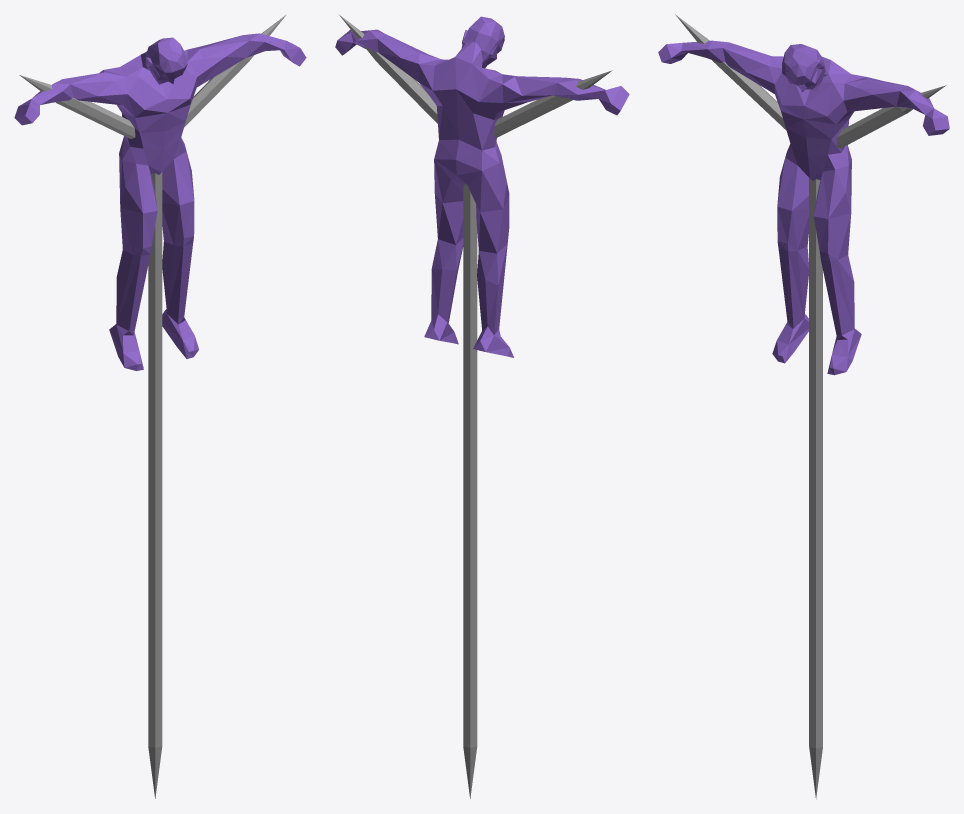
File: ORC_DECO_V1.OBJ
3 renders of one model, left to right at view 1: azimuth 30°, elevation 25°; view 2: azimuth 150°, elevation 25°; view 3: azimuth 330°, elevation 25°, orthographic.
Visible parts, largest first — view 1: ORC_DECO_V1; view 2: ORC_DECO_V1; view 3: ORC_DECO_V1.
Boxes of the visible parts, left/top/right/bottom form: ORC_DECO_V1: left=14, top=14, right=306, bottom=798; ORC_DECO_V1: left=335, top=15, right=629, bottom=798; ORC_DECO_V1: left=658, top=14, right=949, bottom=799.
Size of the model in its own units: 1.62 by 4.18 by 0.3864.
